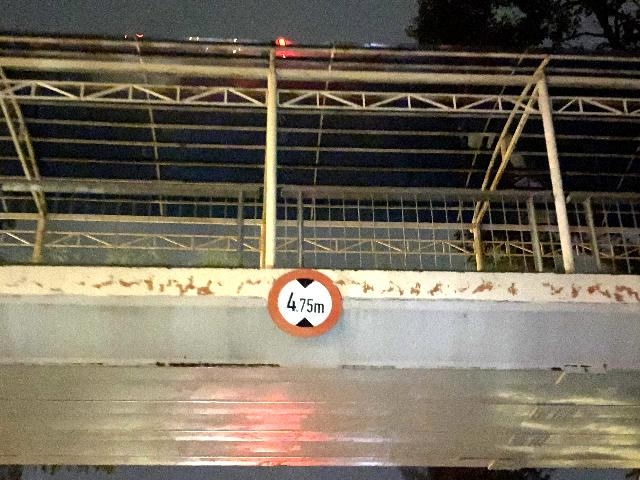han-che-chieu-cao: (267, 267, 342, 338)
